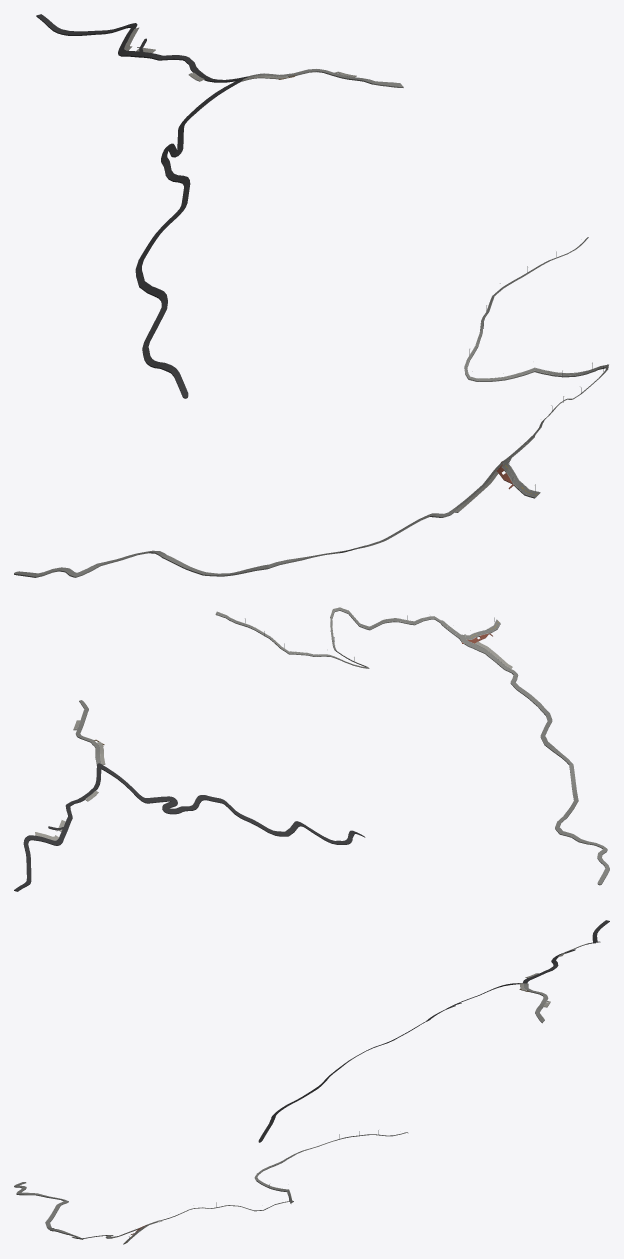
3 renders of one model, top to bottom at view 1: azimuth 30°, elevation 25°; view 2: azimuth 150°, elevation 25°; view 3: azimuth 330°, elevation 25°, orthographic. The views are drawn at different scales.
Bounding box in the file's own units: 639 × 264 × 1167.
